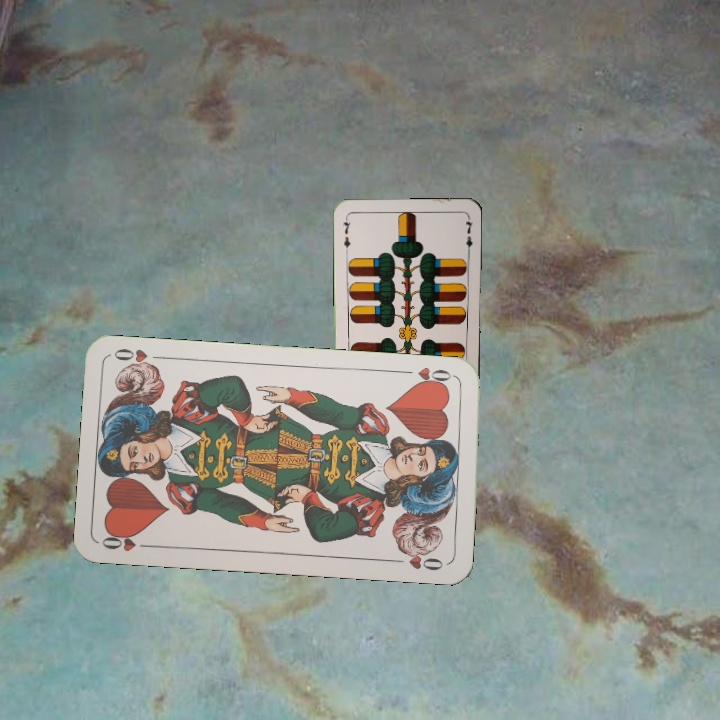E7: (339, 214, 353, 254)
HO: (399, 362, 458, 390), (98, 528, 157, 554)
